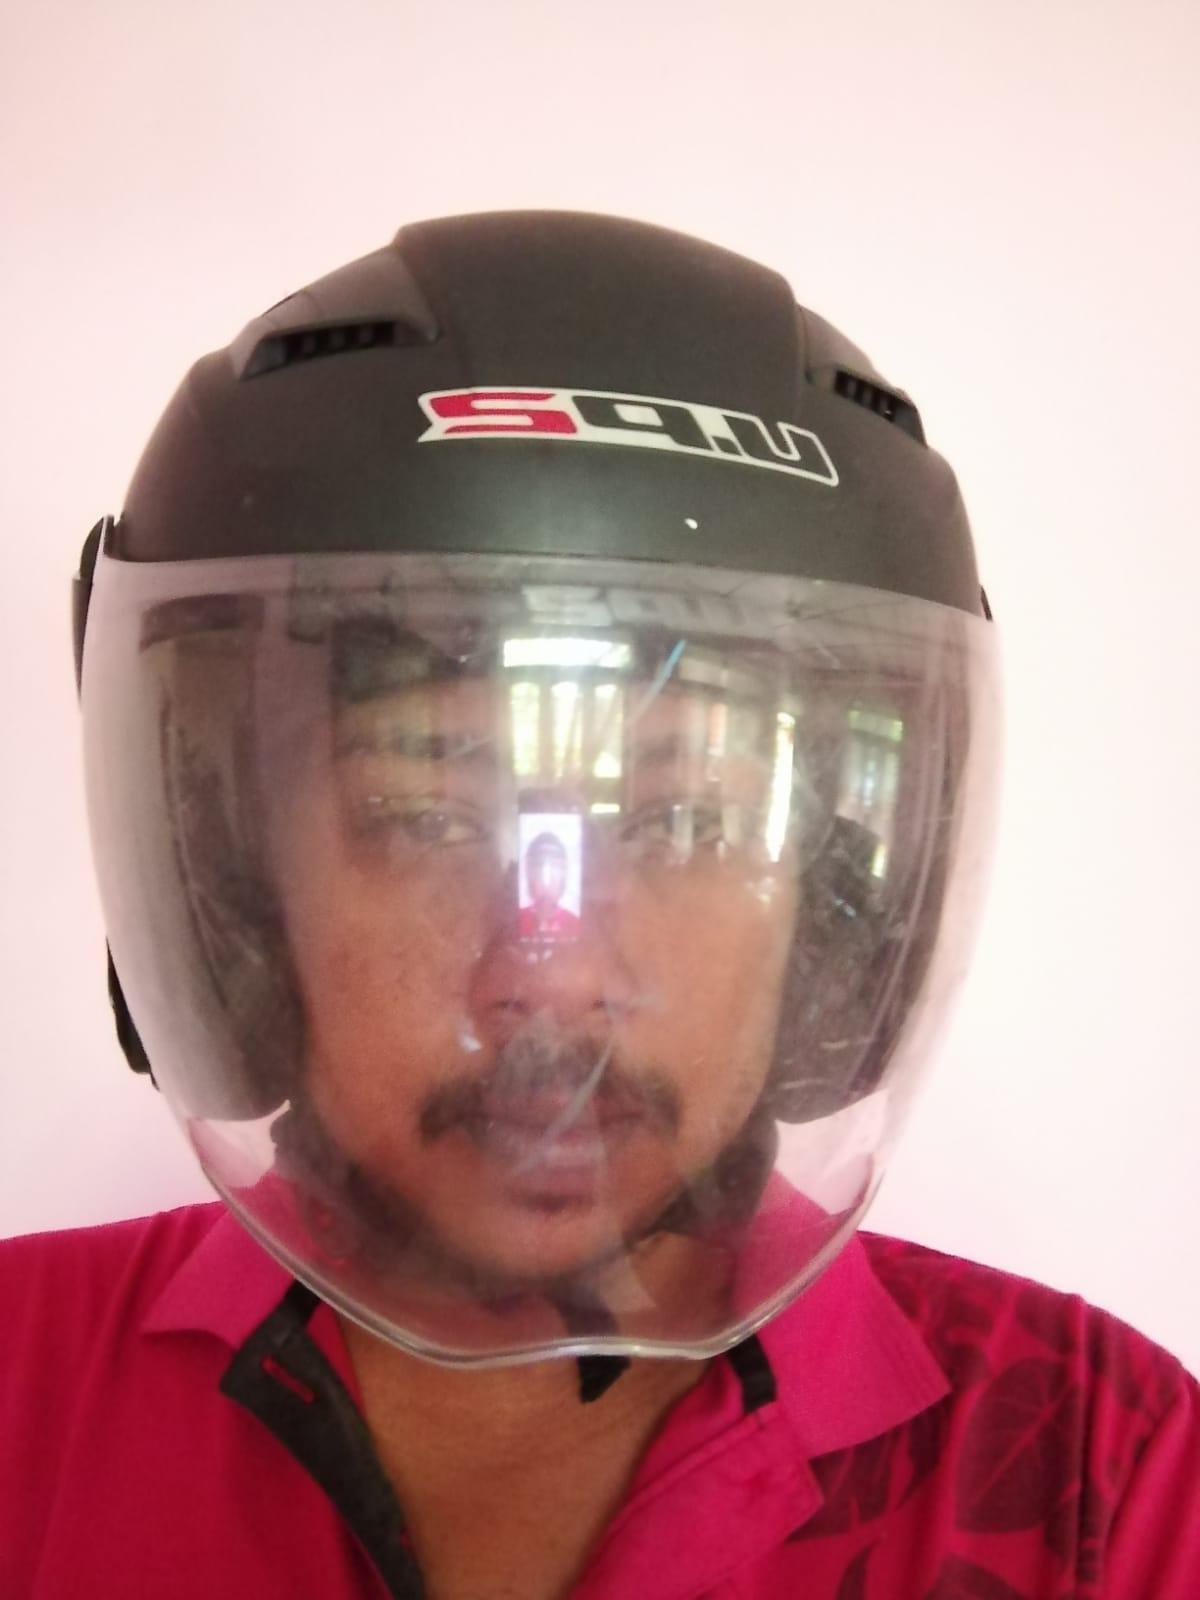helmet: (68, 207, 1000, 1371)
